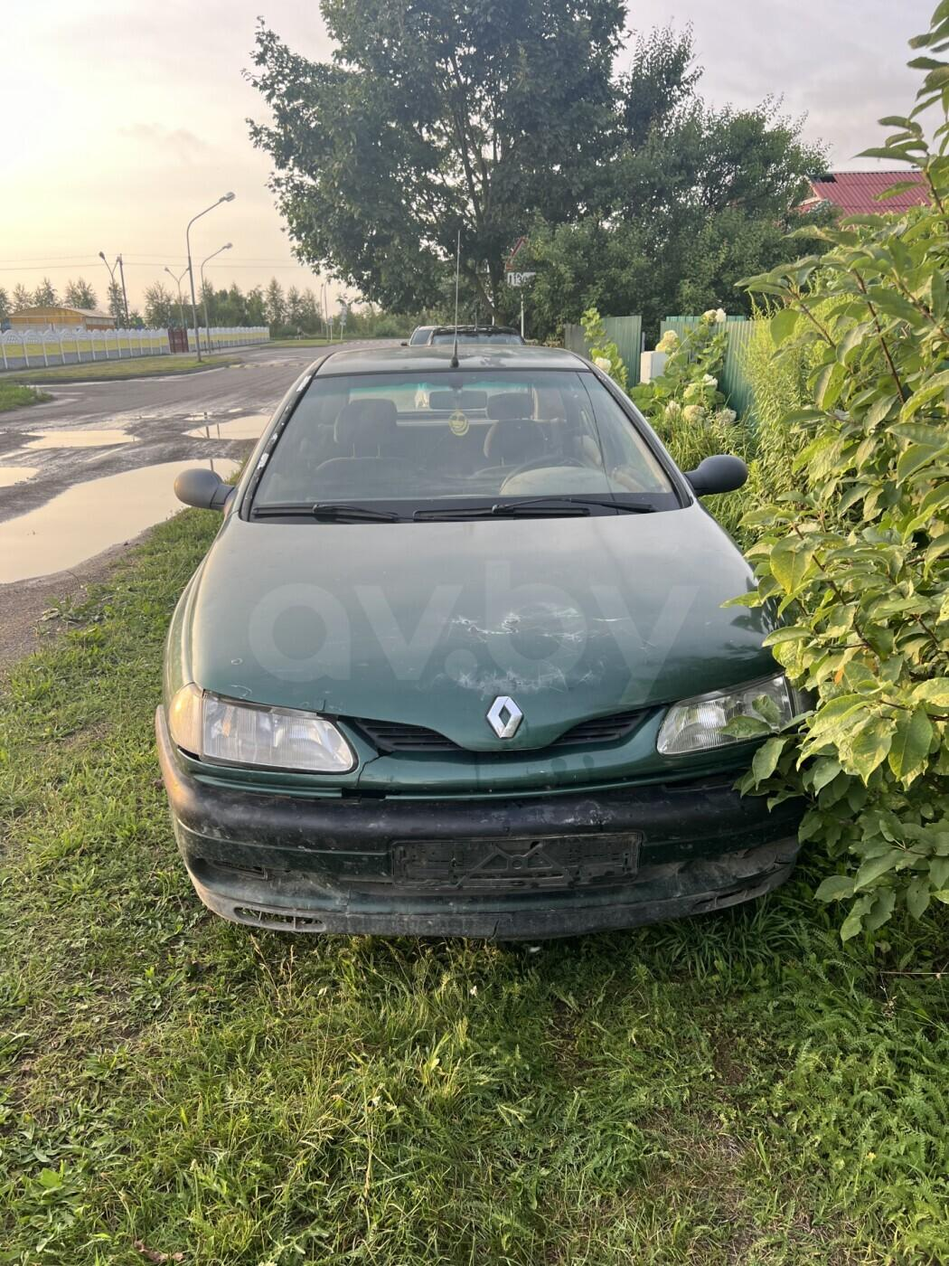Lahuna_1993-1999: (155, 342, 832, 948)
